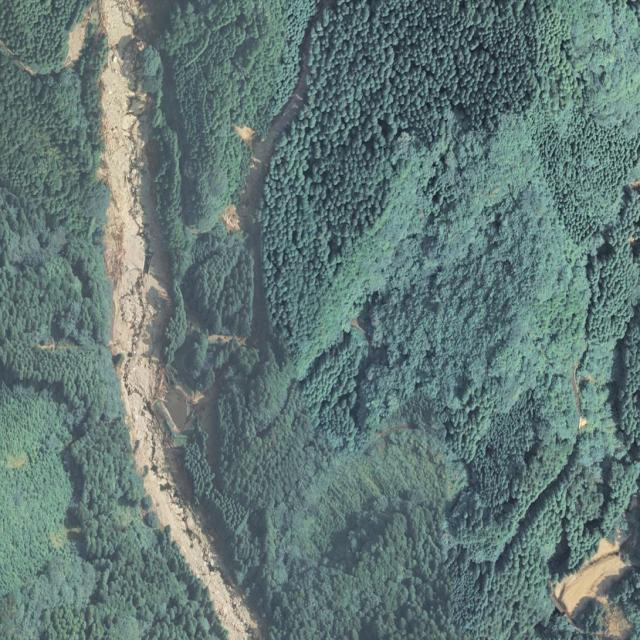landslide: (99, 0, 262, 640), (236, 1, 332, 230), (552, 544, 627, 617)
